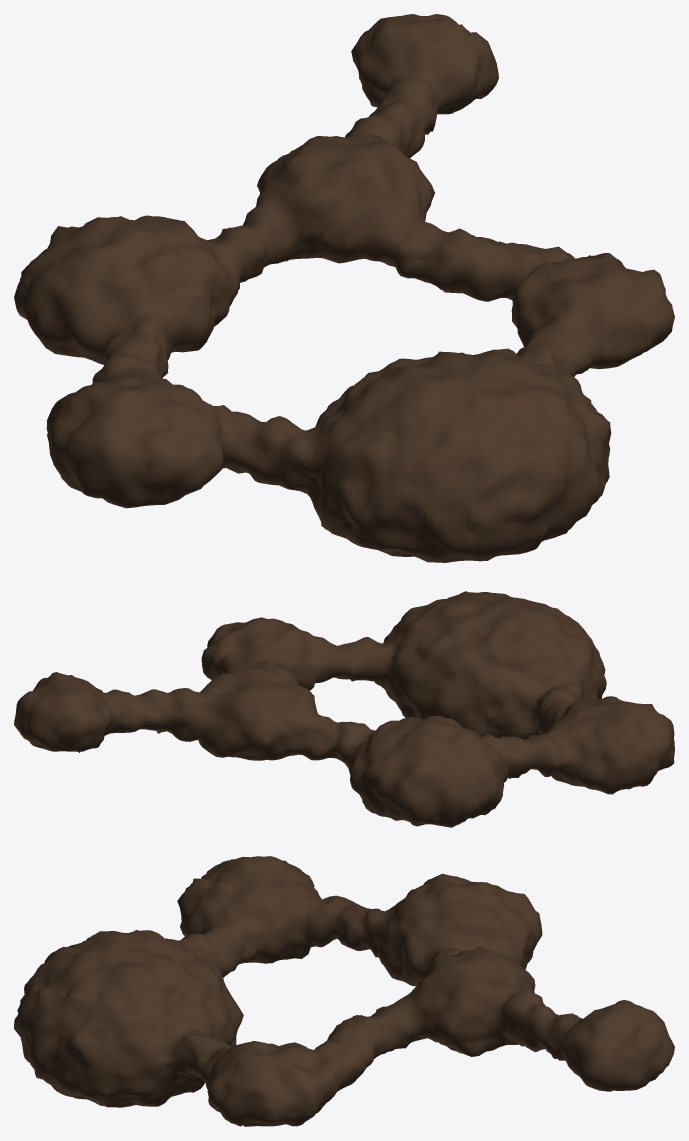
Rendered from cave_f6.glb.
3 renders of one model, top to bottom at view 1: azimuth 30°, elevation 25°; view 2: azimuth 150°, elevation 25°; view 3: azimuth 270°, elevation 25°, orthographic. The views are drawn at different scales.
Visible parts, largest first — view 1: cave_f6; view 2: cave_f6; view 3: cave_f6.
Boxes of the visible parts, x1,y1,x2,y2 form: cave_f6: (14,14,674,562); cave_f6: (14,591,674,827); cave_f6: (14,856,674,1126).
Bounding box in the file's own units: 75.66 × 23.21 × 83.31.
